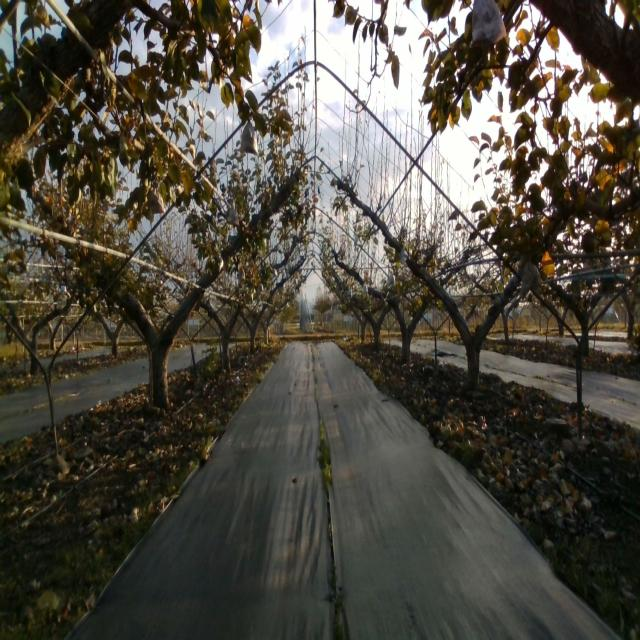pearbags: (471, 0, 507, 46), (521, 258, 542, 298), (239, 118, 258, 157), (150, 190, 166, 214), (228, 207, 240, 226)
